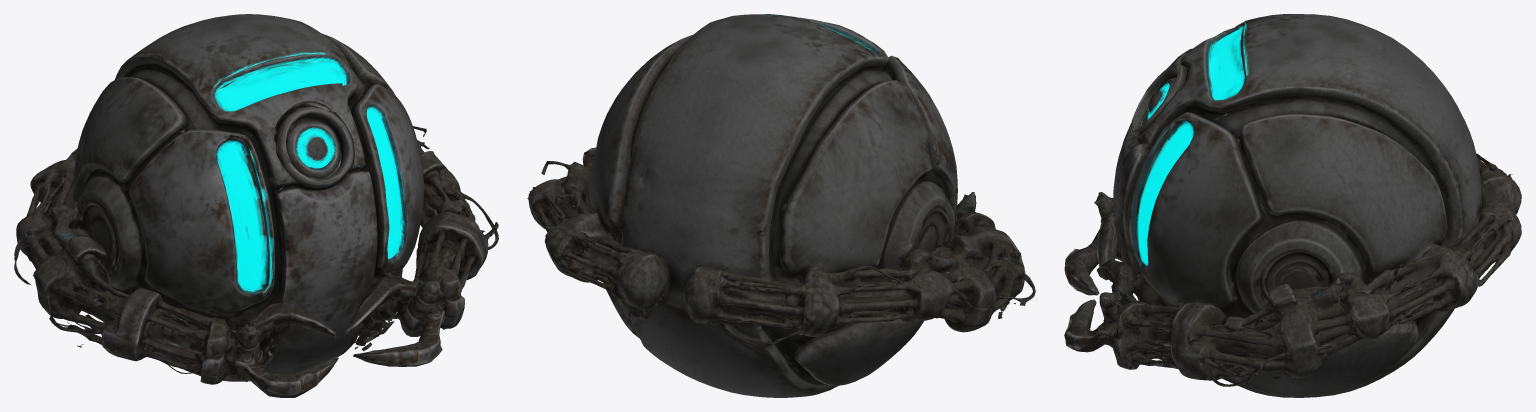
The model's file is aci-04.glb.
The picture shows the model from 3 angles, left to right: view 1: azimuth 30°, elevation 25°; view 2: azimuth 150°, elevation 25°; view 3: azimuth 270°, elevation 25°; orthographic projection. The views are drawn at different scales.
Parts seen in each view (by area): view 1: aci-04v3-master; view 2: aci-04v3-master; view 3: aci-04v3-master.
Part boxes in pixels (bbox=[...]): aci-04v3-master: bbox=[14, 14, 498, 397]; aci-04v3-master: bbox=[527, 14, 1035, 397]; aci-04v3-master: bbox=[1064, 14, 1521, 397].
Size of the model in its own units: 1.9 by 1.38 by 1.64.
Materials: 1 (1 with a texture image).
